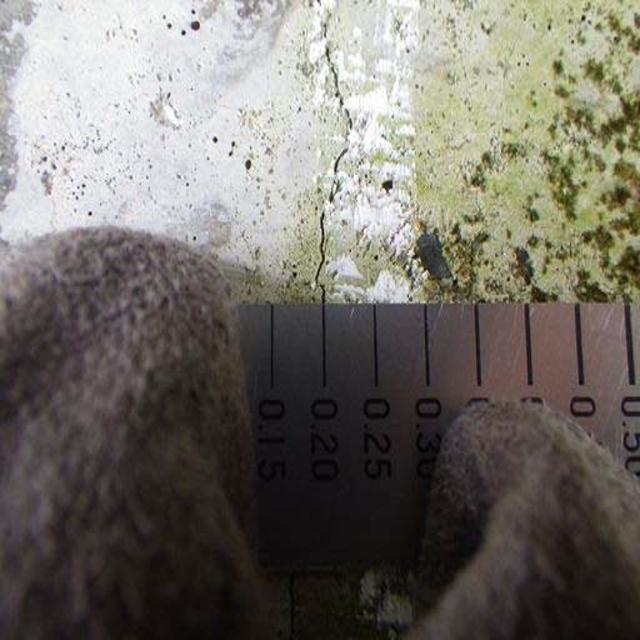crack: (310, 6, 367, 303)
